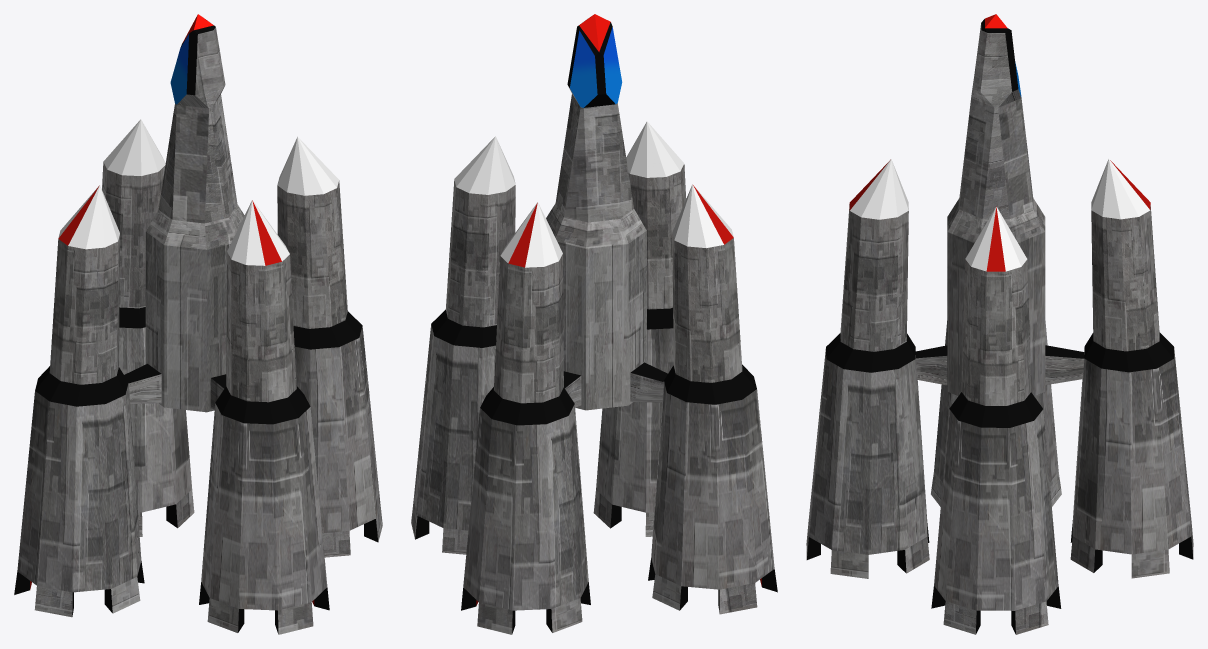
Rendered from FasterShip.fbx.
3 views of the same model, side by side, from view 1: azimuth 30°, elevation 25°; view 2: azimuth 150°, elevation 25°; view 3: azimuth 270°, elevation 25° (orthographic).
Parts seen in each view (by area): view 1: FasterEver; view 2: FasterEver; view 3: FasterEver.
Part boxes in pixels (bbox=[...]): FasterEver: bbox=[14, 14, 382, 634]; FasterEver: bbox=[411, 14, 777, 634]; FasterEver: bbox=[806, 14, 1193, 634].
Bounding box in the file's own units: 1071 × 1606 × 1049.
